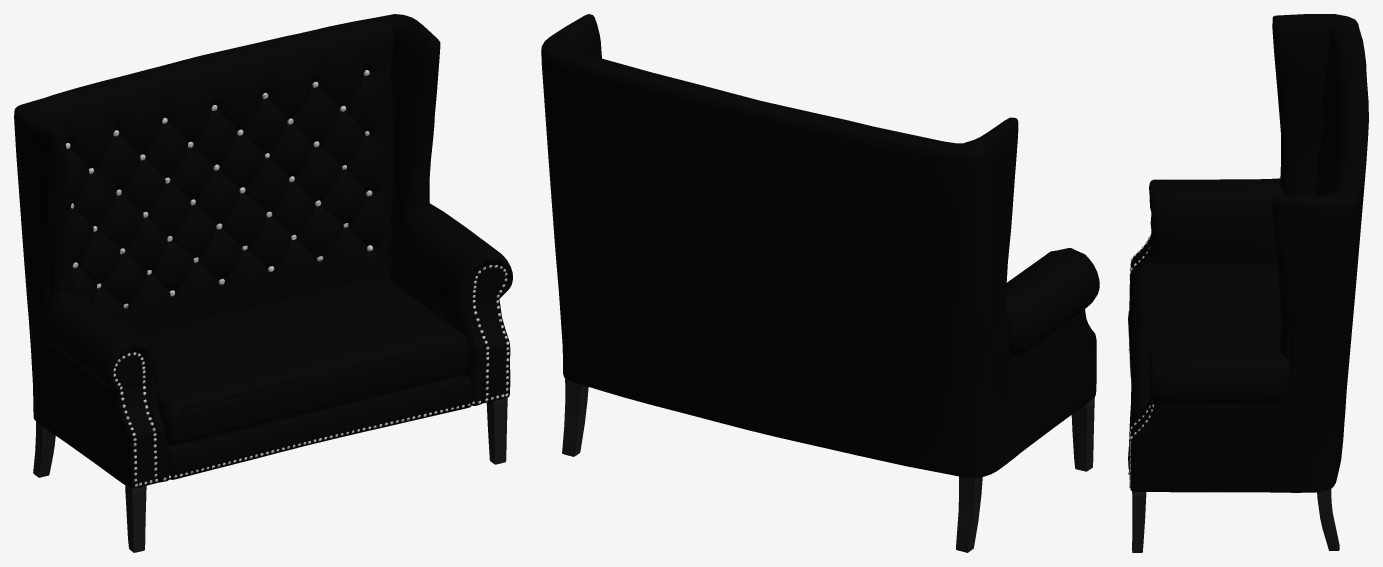
Rendered from ROSP2213.obj.
The picture shows the model from 3 angles, left to right: view 1: azimuth 30°, elevation 25°; view 2: azimuth 150°, elevation 25°; view 3: azimuth 270°, elevation 25°; orthographic projection. The views are drawn at different scales.
Visible parts, largest first — view 1: not_clear_obj_0_v6, not_clear_obj_2_v6, clear_obj_0_95_2941_v6; view 2: not_clear_obj_0_v6, not_clear_obj_2_v6; view 3: not_clear_obj_0_v6, not_clear_obj_2_v6, clear_obj_0_95_2941_v6.
Boxes of the visible parts, x1,y1,x2,y2 form: not_clear_obj_0_v6: (14, 14, 512, 488); not_clear_obj_2_v6: (33, 397, 507, 552); clear_obj_0_95_2941_v6: (65, 70, 509, 486); not_clear_obj_0_v6: (541, 14, 1099, 477); not_clear_obj_2_v6: (562, 378, 1094, 552); not_clear_obj_0_v6: (1128, 14, 1368, 492); not_clear_obj_2_v6: (1132, 489, 1339, 552); clear_obj_0_95_2941_v6: (1128, 231, 1153, 487).
Size of what is drawn, in the model's own units: 147 by 126 by 76.85.
